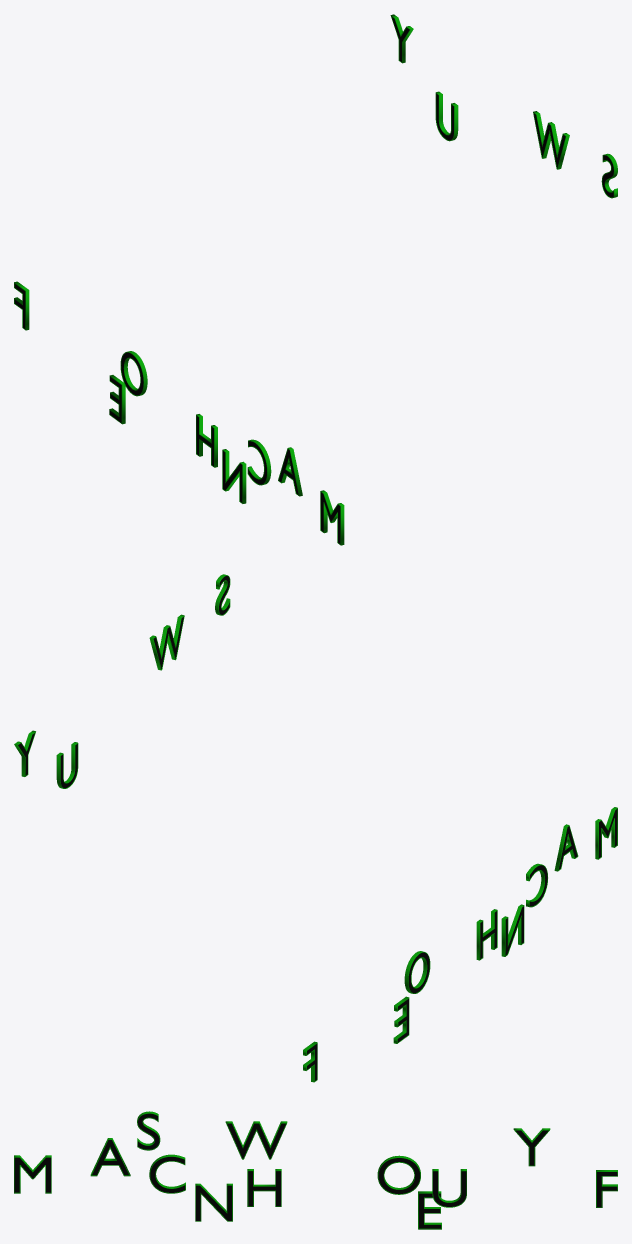
Rendered from Howm.fbx.
3 views of the same model, one above another, from view 1: azimuth 30°, elevation 25°; view 2: azimuth 150°, elevation 25°; view 3: azimuth 270°, elevation 25° (orthographic). The views are drawn at different scales.
Parts seen in each view (by area): view 1: W, M, N, O; view 2: W, N, M; view 3: W, O, M, N, H, A, C, U, E, S, F, Y.
Boxes of the visible parts, <box> form: W: <box>533,111,569,169</box>; M: <box>320,490,344,545</box>; N: <box>222,449,246,503</box>; O: <box>120,351,147,396</box>; W: <box>149,614,184,670</box>; N: <box>501,904,524,956</box>; M: <box>595,807,617,859</box>; W: <box>225,1121,287,1159</box>; O: <box>377,1155,420,1194</box>; M: <box>14,1155,51,1193</box>; N: <box>195,1183,232,1221</box>; H: <box>247,1169,281,1206</box>; A: <box>90,1138,130,1176</box>; C: <box>149,1154,185,1193</box>; U: <box>432,1169,466,1207</box>; E: <box>418,1191,441,1229</box>; S: <box>137,1111,160,1150</box>; F: <box>596,1170,617,1207</box>; Y: <box>513,1128,550,1166</box>.
Size of the model in its own units: 202 by 164 by 333.
